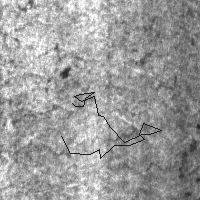crazing: (61, 92, 161, 158), (105, 124, 178, 175), (11, 102, 75, 157)
